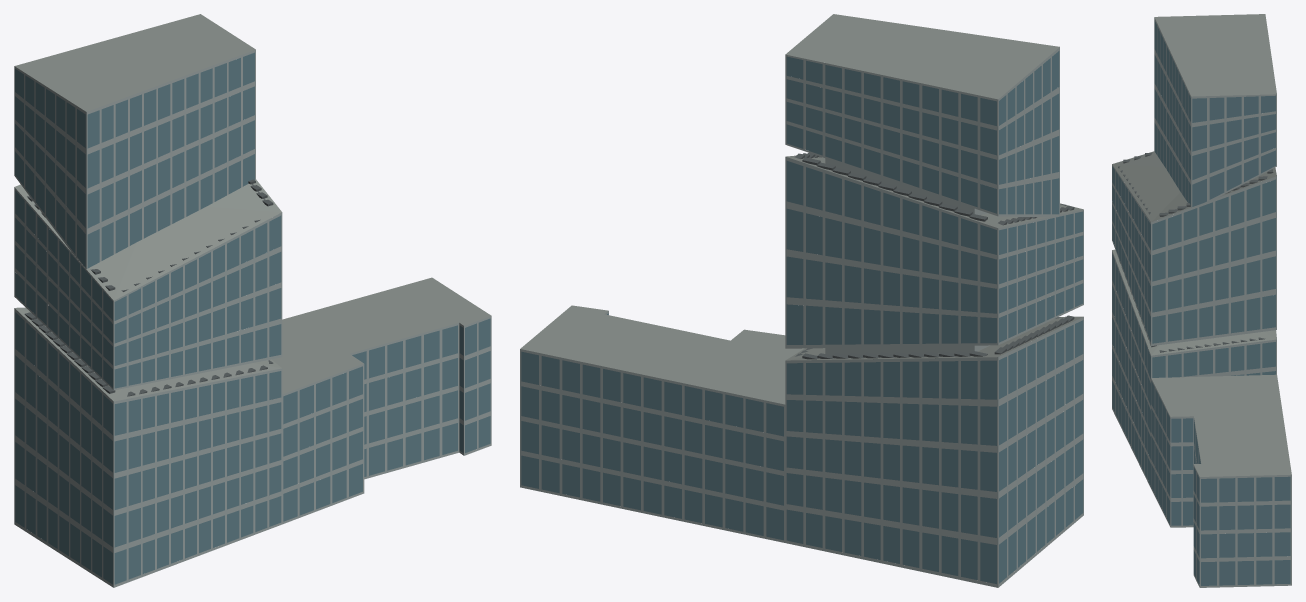
Rendered from vinoly-tower-amsterdam-far.glb.
The picture shows the model from 3 angles, left to right: view 1: azimuth 30°, elevation 25°; view 2: azimuth 150°, elevation 25°; view 3: azimuth 270°, elevation 25°; orthographic projection. The views are drawn at different scales.
Visible parts, largest first — view 1: vinoly-tower-amsterdam-0-glass, vinoly-tower-amsterdam-0-metal, vinoly-tower-amsterdam-0-roof, vinoly-tower-amsterdam-0-stair; view 2: vinoly-tower-amsterdam-0-glass, vinoly-tower-amsterdam-0-metal, vinoly-tower-amsterdam-0-roof, vinoly-tower-amsterdam-0-stair; view 3: vinoly-tower-amsterdam-0-glass, vinoly-tower-amsterdam-0-roof, vinoly-tower-amsterdam-0-metal, vinoly-tower-amsterdam-0-stair.
Boxes of the visible parts, left/top/right/bottom form: vinoly-tower-amsterdam-0-glass: left=15, top=52, right=490, bottom=584; vinoly-tower-amsterdam-0-metal: left=14, top=49, right=491, bottom=587; vinoly-tower-amsterdam-0-roof: left=15, top=14, right=491, bottom=401; vinoly-tower-amsterdam-0-stair: left=24, top=179, right=273, bottom=396; vinoly-tower-amsterdam-0-glass: left=521, top=51, right=1083, bottom=584; vinoly-tower-amsterdam-0-metal: left=520, top=47, right=1083, bottom=587; vinoly-tower-amsterdam-0-roof: left=520, top=14, right=1083, bottom=404; vinoly-tower-amsterdam-0-stair: left=794, top=153, right=1074, bottom=359; vinoly-tower-amsterdam-0-glass: left=1112, top=20, right=1290, bottom=585; vinoly-tower-amsterdam-0-roof: left=1112, top=14, right=1291, bottom=476; vinoly-tower-amsterdam-0-metal: left=1112, top=17, right=1291, bottom=587; vinoly-tower-amsterdam-0-stair: left=1118, top=152, right=1273, bottom=352.
Bounding box in the file's own units: 91.12 × 91 × 37.91.
